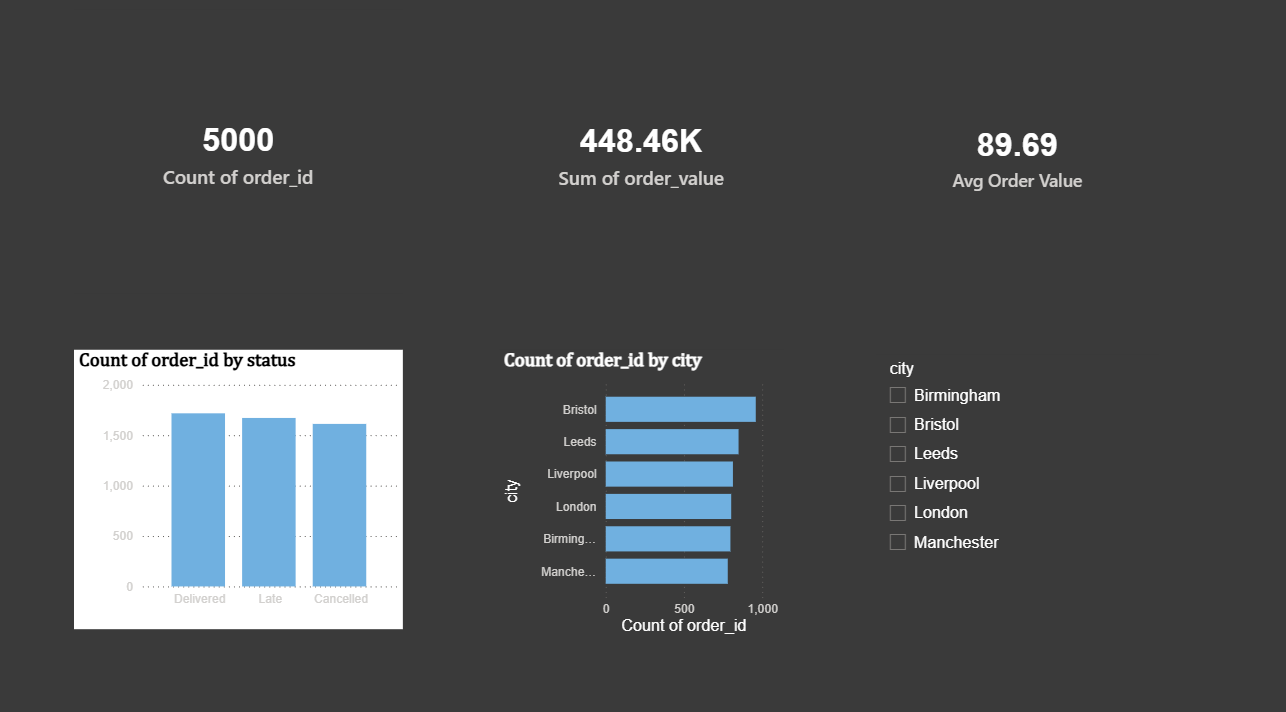

The page's visual inventory and layout, read from the dashboard file:
{"tool":"powerbi","page":{"name":"Page 1","canvas":[1280,720],"ordinal":0},"visuals":[{"type":"card","fields":{"Values":["Count(final_data.order_id)"]},"box":[79.6,18.7,324.7,279.9],"z":0},{"type":"card","fields":{"Values":["Sum(final_data.order_value)"]},"box":[498.8,19.9,281.1,279.9],"z":1000},{"type":"columnChart","fields":{"Category":["final_data.status"],"Y":["Count(final_data.order_id)"]},"box":[79.6,354.5,324.7,276.2],"z":2000},{"type":"barChart","fields":{"Category":["final_data.city"],"Y":["CountNonNull(final_data.order_id)"]},"box":[498.8,354.5,281.1,286.1],"z":4000},{"type":"slicer","fields":{"Values":["final_data.city"]},"box":[872,359.5,278.6,281.1],"z":5000},{"type":"card","fields":{"Values":["final_data.Avg Order Value"]},"box":[872,19.9,278.6,286.1],"z":6000}]}

Visuals, with their boxes in screenshot pixels (x1, y1, x2, y2), scaled from the page's 1280x720 canvas onto the 1286x712 screenshot:
card - Count(final_data.order_id): x1=80 y1=18 x2=406 y2=295
card - Sum(final_data.order_value): x1=501 y1=20 x2=784 y2=296
columnChart - final_data.status x Count(final_data.order_id): x1=80 y1=351 x2=406 y2=624
barChart - final_data.city x CountNonNull(final_data.order_id): x1=501 y1=351 x2=784 y2=633
slicer - final_data.city: x1=876 y1=356 x2=1156 y2=633
card - final_data.Avg Order Value: x1=876 y1=20 x2=1156 y2=303
